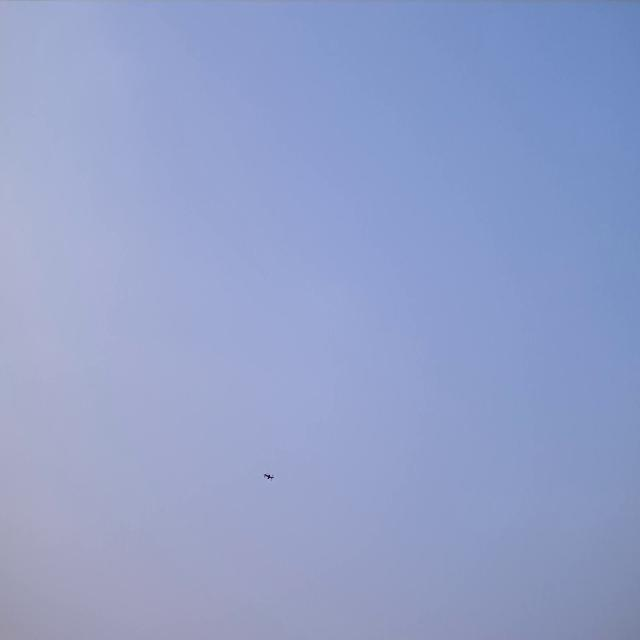UAV: (262, 470, 274, 483)
